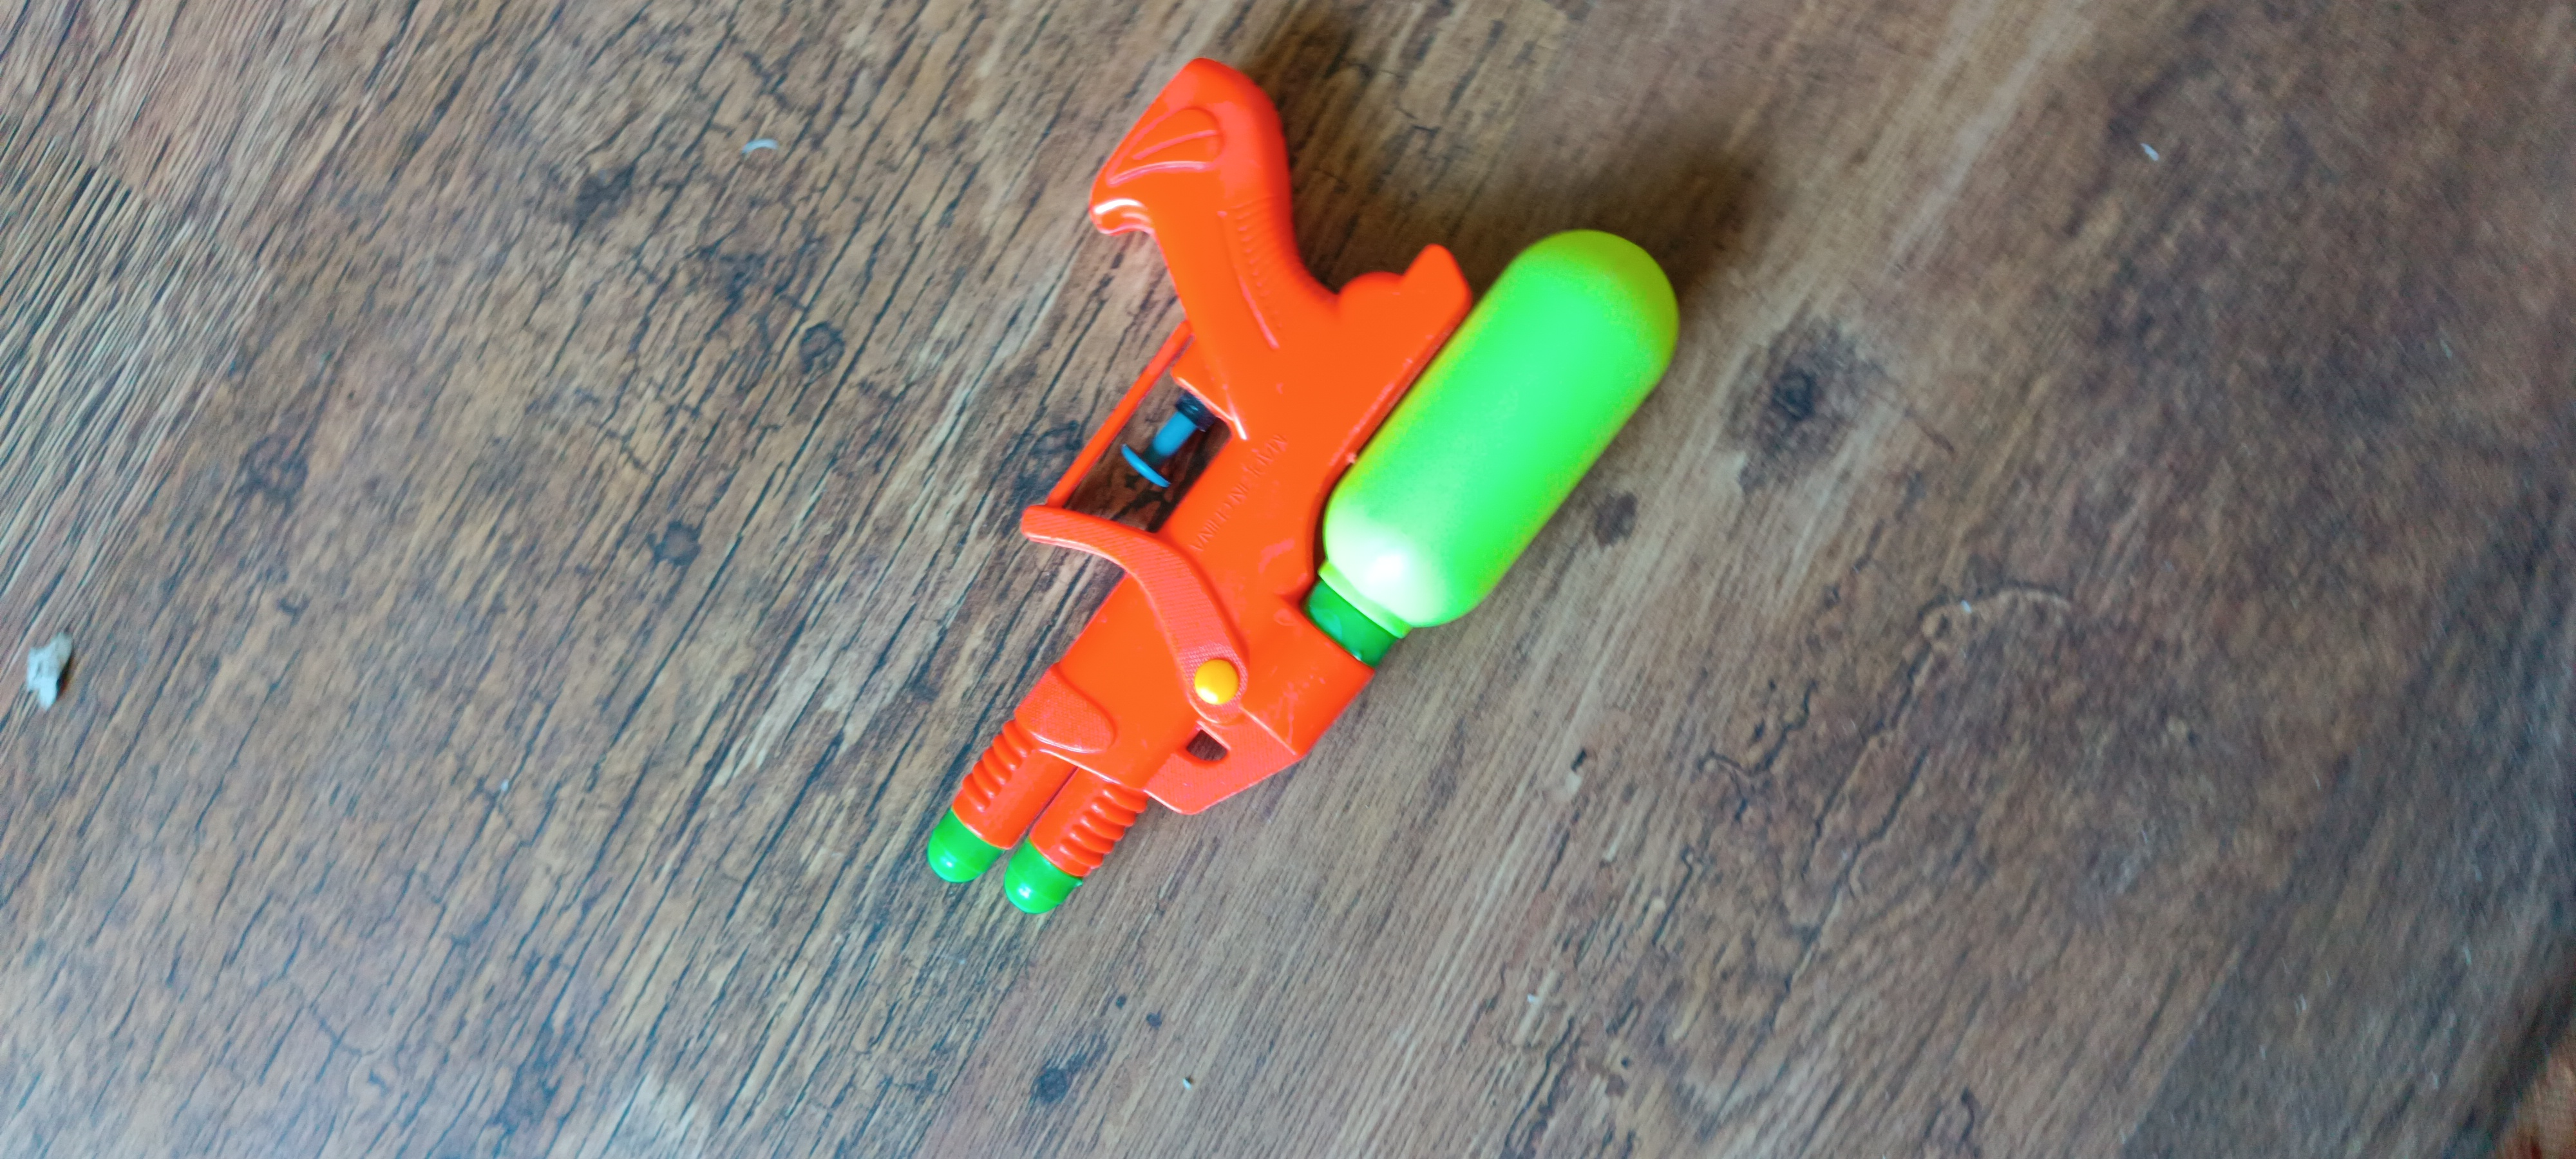Water Gun: (927, 54, 1682, 918)
